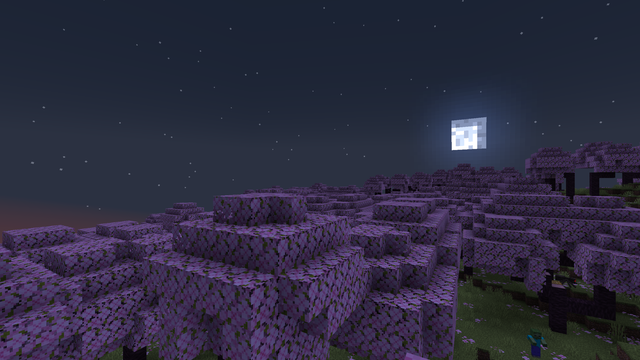araignees: (556, 273, 577, 287)
zombies: (530, 328, 541, 359)
